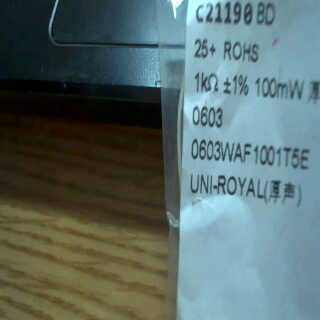1kR: (191, 70, 219, 95)
